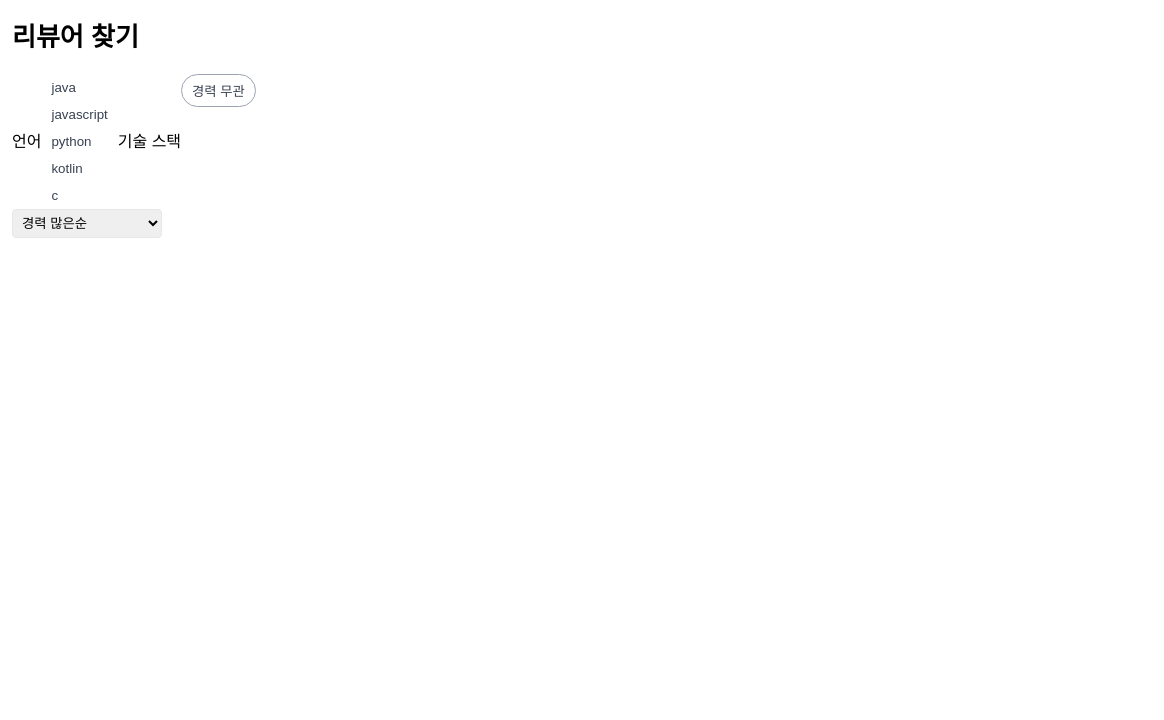
Test case: 리뷰어찾기페이지 테스트 › 기술을 선택하면 리뷰어 목록이 나타난다.
The image size is (1164, 720).
Click the button "javascript": (80, 114) 42,101 -> 118,128
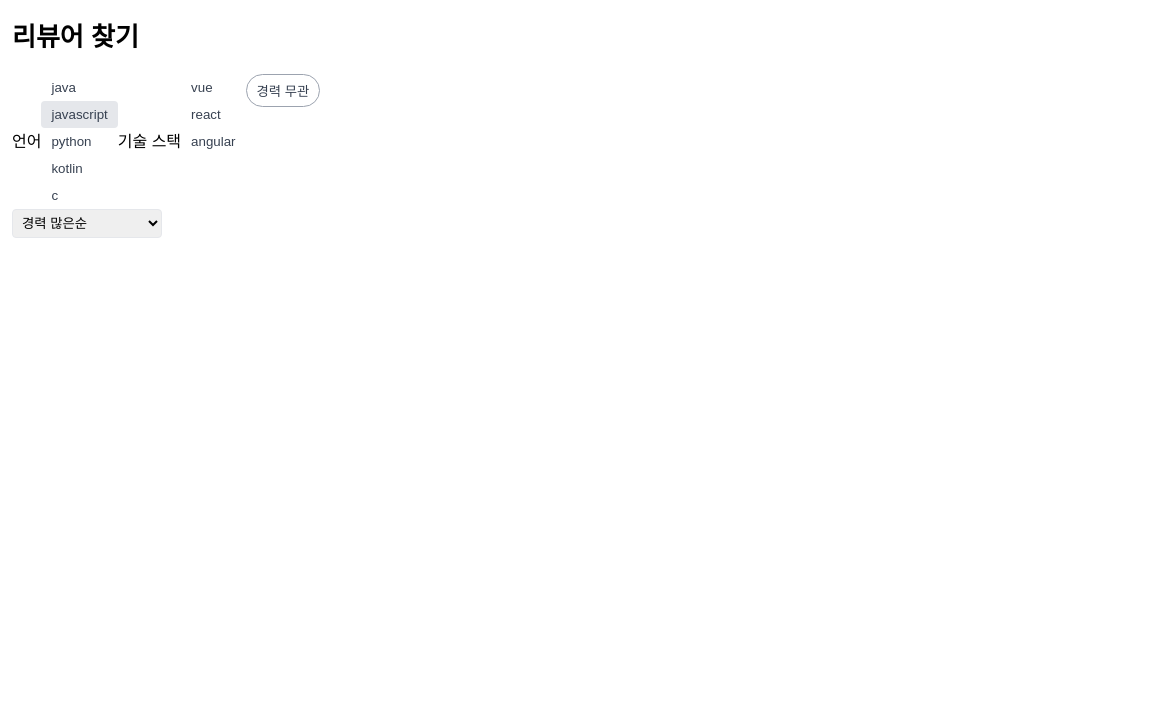
Click the button "vue": (202, 88) 181,74 -> 223,101
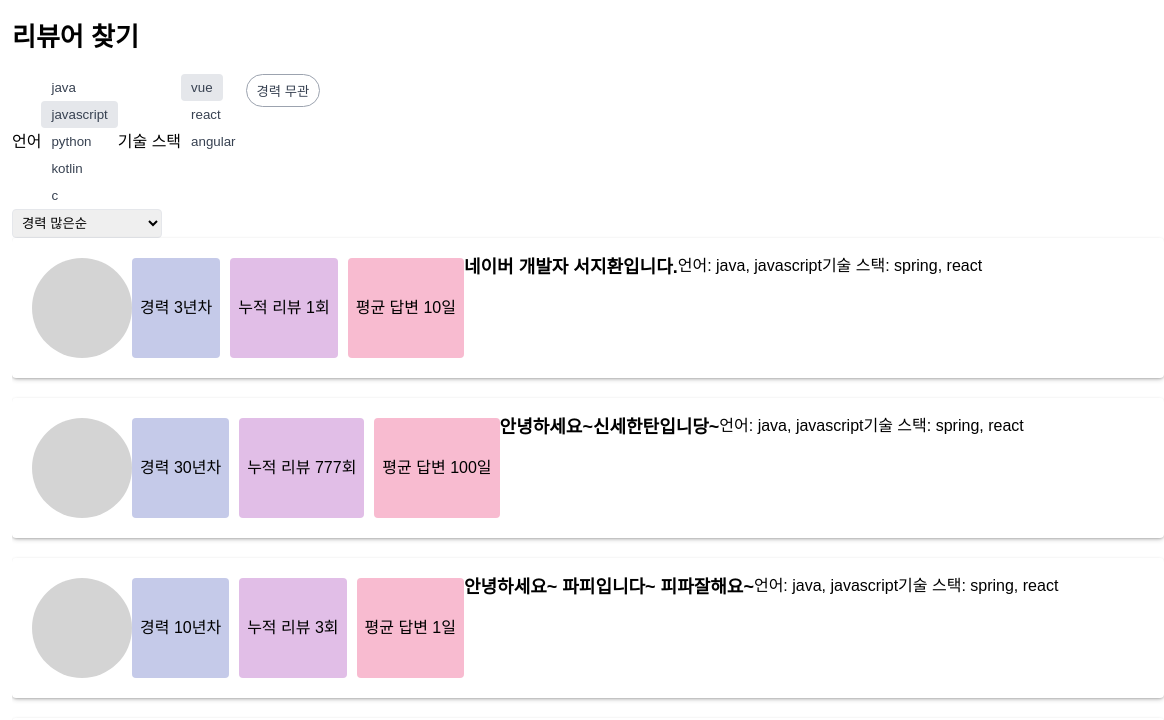
expect the number of pictures is 10: met
